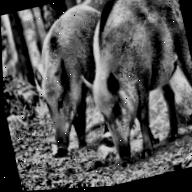boar: (64, 0, 192, 185), (8, 0, 128, 188)
